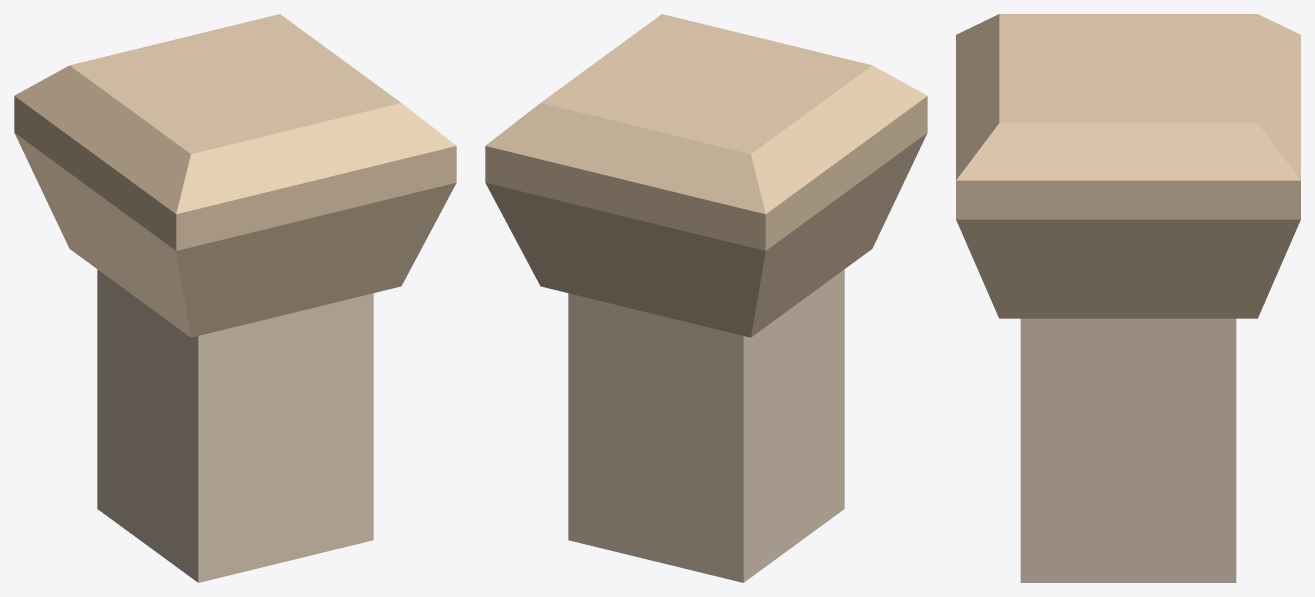
File: temple_Stairs_Newel_Top.glb
3 renders of one model, left to right at view 1: azimuth 30°, elevation 25°; view 2: azimuth 150°, elevation 25°; view 3: azimuth 270°, elevation 25°, orthographic. The views are drawn at different scales.
Visible parts, largest first — view 1: object1; view 2: object1; view 3: object1.
Part boxes in pixels (x1,y1,x2,y2): object1: (14, 14, 456, 582); object1: (485, 14, 927, 582); object1: (956, 14, 1300, 582).
Bounding box in the file's own units: 0.4 × 0.6 × 0.4.
